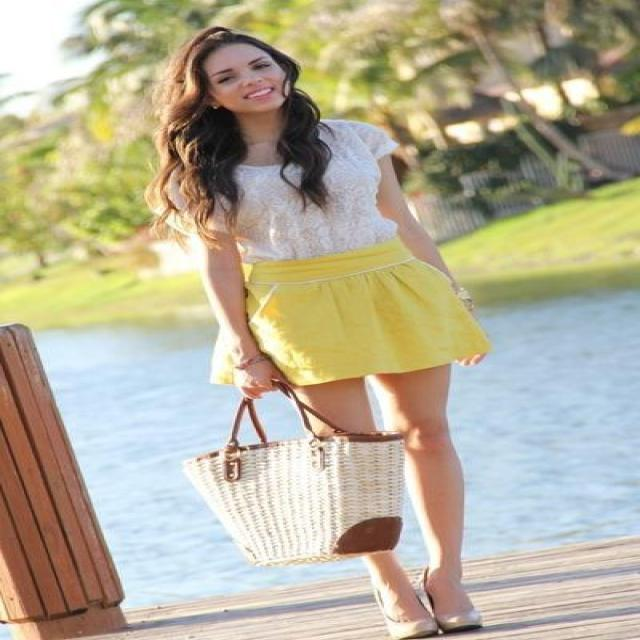bag: (182, 381, 420, 565)
shirt: (235, 120, 402, 266)
shoe: (382, 602, 478, 639)
skirt: (210, 243, 490, 388)
